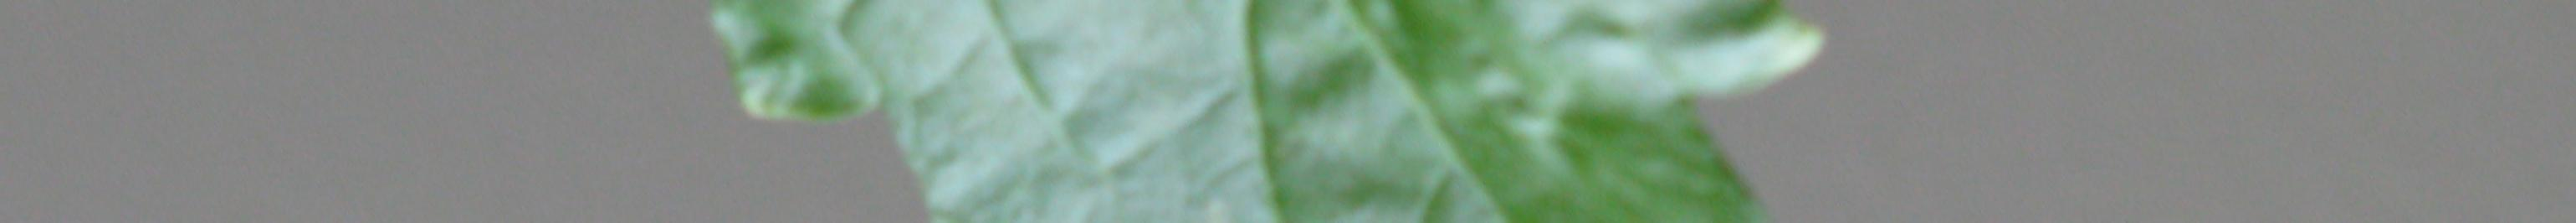Tomato leaf: (388, 0, 1858, 223)
